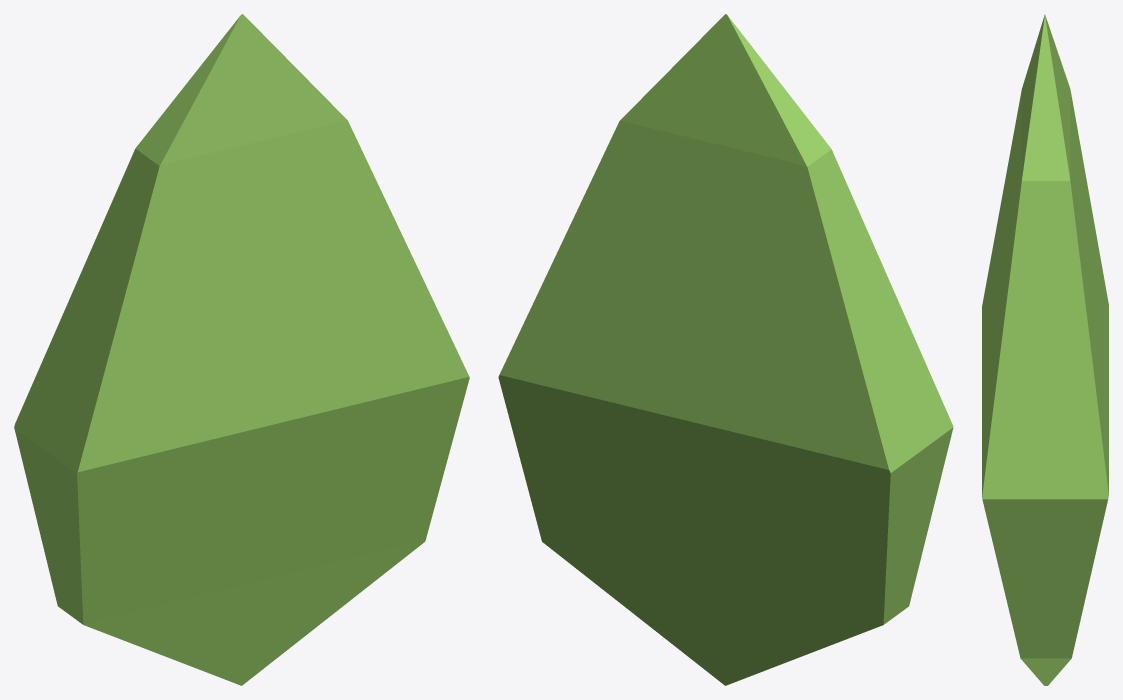
The model's file is plant_seed.gltf.
The picture shows the model from 3 angles, left to right: view 1: azimuth 30°, elevation 25°; view 2: azimuth 150°, elevation 25°; view 3: azimuth 270°, elevation 25°; orthographic projection.
Parts seen in each view (by area): view 1: CSGSphere3D2; view 2: CSGSphere3D2; view 3: CSGSphere3D2.
Part boxes in pixels (x1,y1,x2,y2): CSGSphere3D2: [14, 14, 469, 685]; CSGSphere3D2: [498, 14, 953, 685]; CSGSphere3D2: [982, 14, 1108, 685].
Bounding box in the file's own units: 0.3377 × 0.5517 × 0.0944.
